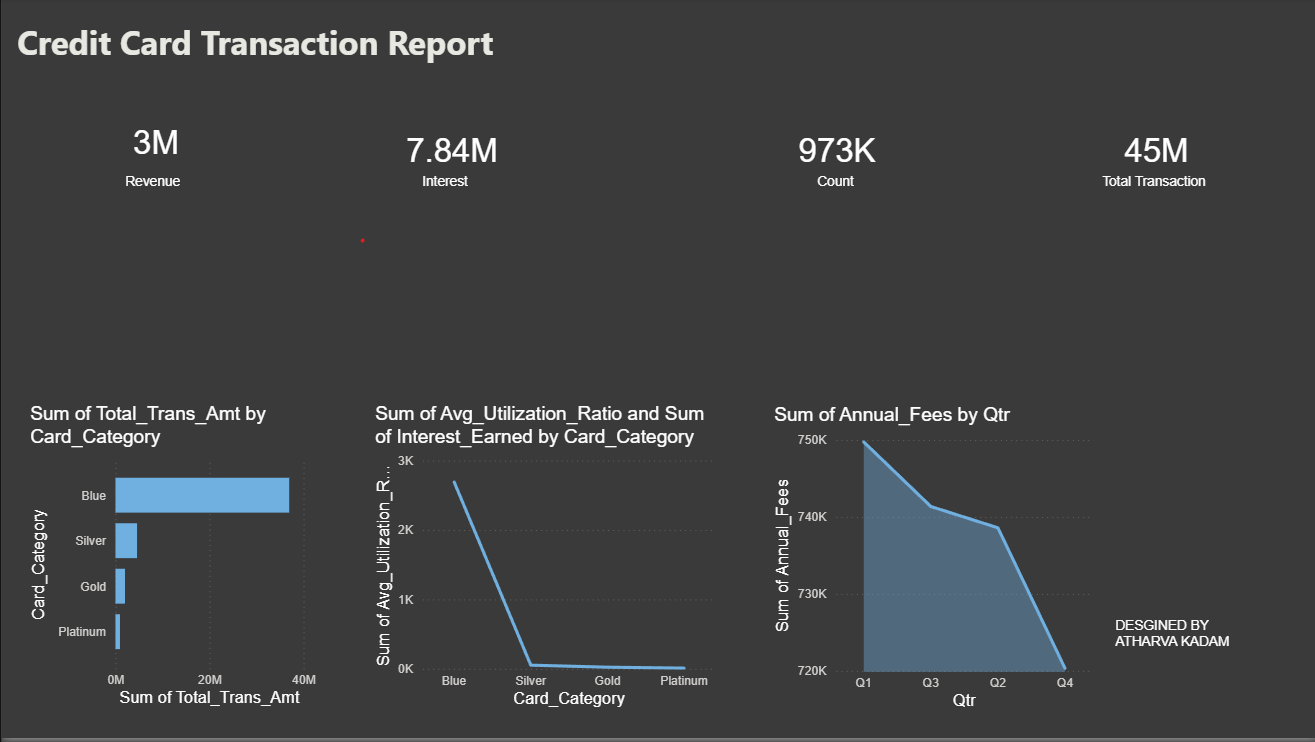

What the dashboard file says about the page in this screenshot:
{"tool":"powerbi","page":{"name":"Page 1","canvas":[1280,720],"ordinal":0},"visuals":[{"type":"card","fields":{"Values":["Sum(credit_card.Annual_Fees)"]},"box":[10,0,280,280],"z":0},{"type":"card","fields":{"Values":["Sum(credit_card.Interest_Earned)"]},"box":[297.6,7.8,280.1,280.1],"z":1000},{"type":"card","fields":{"Values":["Sum(credit_card.Customer_Acq_Cost)"]},"box":[672.1,7.8,280.1,280.1],"z":2000},{"type":"card","fields":{"Values":["Sum(credit_card.Total_Trans_Amt)"]},"box":[991.1,7.8,263.6,280.1],"z":3000},{"type":"textbox","box":[9.7,289.8,204.3,37],"z":4000},{"type":"textbox","box":[10,448.5,204,150],"z":5000},{"type":"textbox","box":[1065,166.3,115.7,29.2],"z":6000},{"type":"textbox","box":[787.8,166.3,48.6,29.2],"z":7000},{"type":"textbox","box":[403.6,166.3,82.7,29.2],"z":8000},{"type":"textbox","box":[114.8,166.3,69.1,29.2],"z":9000},{"type":"clusteredBarChart","fields":{"Category":["credit_card.Card_Category"],"Y":["Sum(credit_card.Total_Trans_Amt)"]},"box":[22.4,393.9,287.9,299.6],"z":10000},{"type":"lineChart","fields":{"Y":["Sum(credit_card.Avg_Utilization_Ratio)"],"Category":["credit_card.Card_Category"]},"box":[357.9,393.9,342.4,300.5],"z":10001},{"type":"areaChart","fields":{"Y":["Sum(credit_card.Annual_Fees)"],"Category":["credit_card.Qtr"]},"box":[746,394.9,319,301.5],"z":10002},{"type":"textbox","box":[9.7,15.6,556.4,57.4],"z":10003},{"type":"textbox","box":[1077.7,598.2,184.8,56.4],"z":10004}]}

Visuals, with their boxes in screenshot pixels (x1, y1, x2, y2), scaled from the page's 1280x720 canvas onto the 1315x742 screenshot:
card - Sum(credit_card.Annual_Fees): [10, 0, 298, 289]
card - Sum(credit_card.Interest_Earned): [306, 8, 593, 297]
card - Sum(credit_card.Customer_Acq_Cost): [690, 8, 978, 297]
card - Sum(credit_card.Total_Trans_Amt): [1018, 8, 1289, 297]
textbox: [10, 299, 220, 337]
textbox: [10, 462, 220, 617]
textbox: [1094, 171, 1213, 201]
textbox: [809, 171, 859, 201]
textbox: [415, 171, 500, 201]
textbox: [118, 171, 189, 201]
clusteredBarChart - credit_card.Card_Category x Sum(credit_card.Total_Trans_Amt): [23, 406, 319, 715]
lineChart - Sum(credit_card.Avg_Utilization_Ratio) x credit_card.Card_Category: [368, 406, 719, 716]
areaChart - Sum(credit_card.Annual_Fees) x credit_card.Qtr: [766, 407, 1094, 718]
textbox: [10, 16, 582, 75]
textbox: [1107, 616, 1297, 675]
